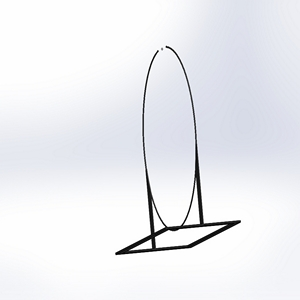circle: (114, 43, 241, 255)
